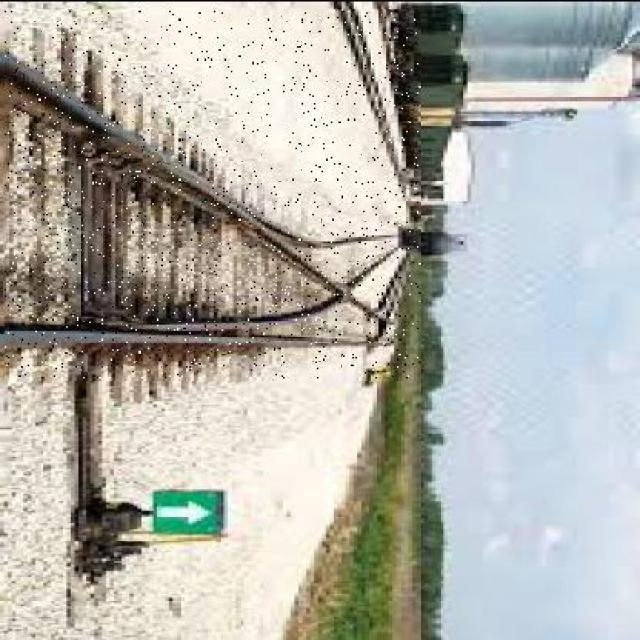rail: (5, 9, 419, 377)
